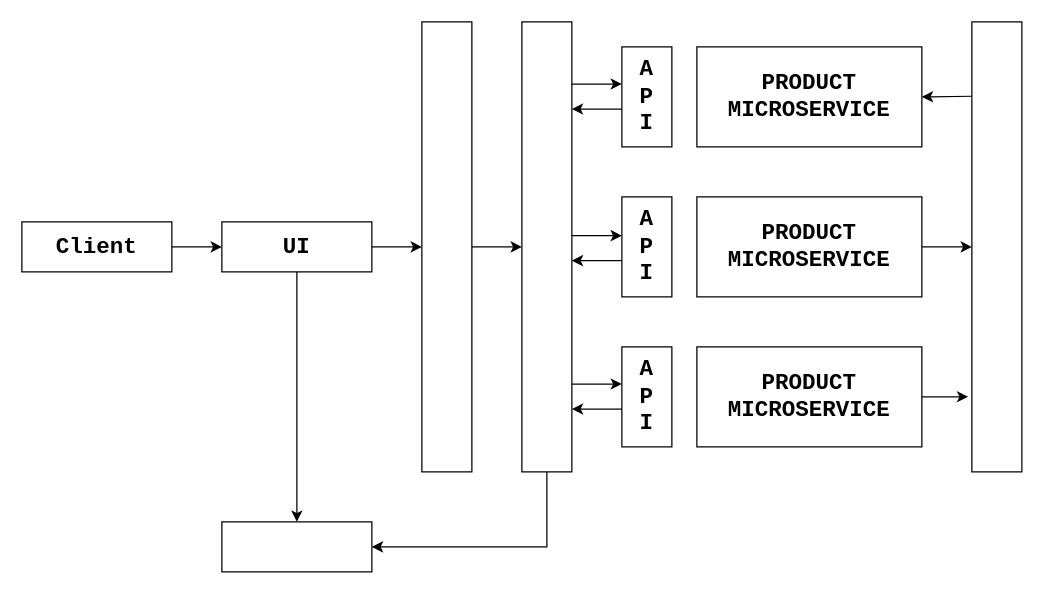
This 1044x600 diagram has some shape labels left out. Each missing label, with the box of its shape:
A P I G A T E W A Y: (521, 21, 572, 472)
E V E N T B U S: (971, 21, 1022, 472)
F I R E W A L L: (421, 21, 472, 472)
IDP: (221, 521, 372, 572)
